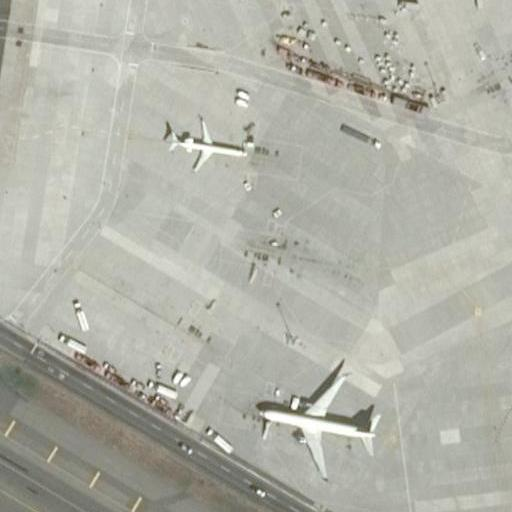Aircraft: (251, 363, 385, 480), (160, 111, 250, 171), (210, 0, 289, 3)
